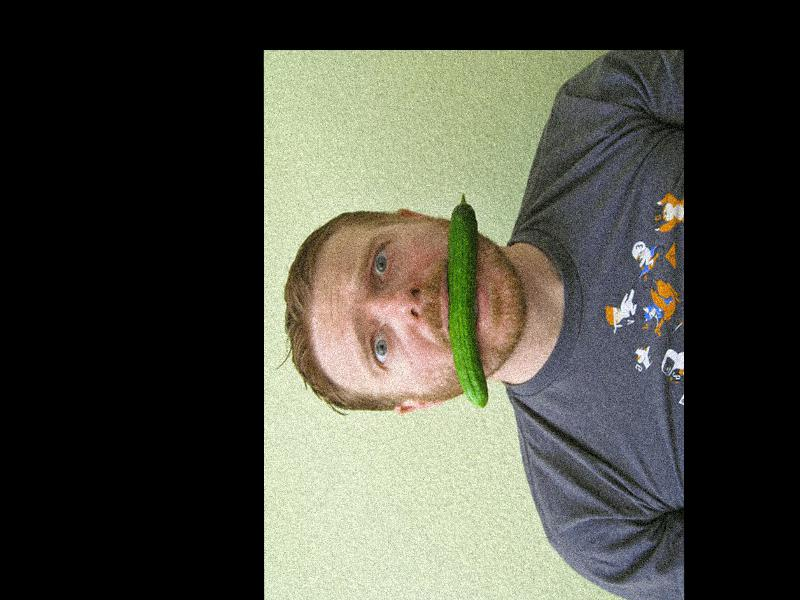Cucumber: (448, 193, 488, 409)
